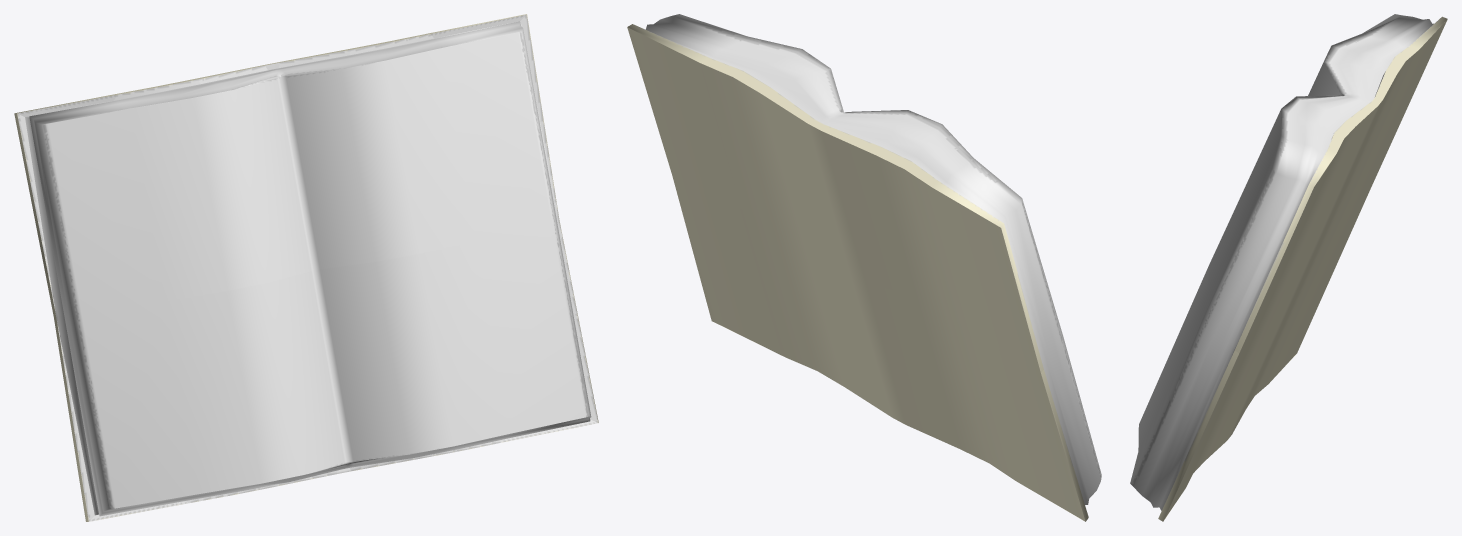
File: Komono_A_Book.fbx
3 renders of one model, left to right at view 1: azimuth 30°, elevation 25°; view 2: azimuth 150°, elevation 25°; view 3: azimuth 270°, elevation 25°, orthographic. The views are drawn at different scales.
Visible parts, largest first — view 1: book_m; view 2: book_m; view 3: book_m.
Boxes of the visible parts, <box> form: book_m: <box>14,14,598,521</box>; book_m: <box>627,14,1101,521</box>; book_m: <box>1130,14,1447,521</box>.
Bounding box in the file's own units: 64.44 × 54.24 × 40.82.
